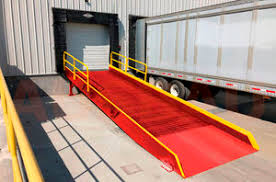Yard Ramp: (61, 51, 260, 179)
